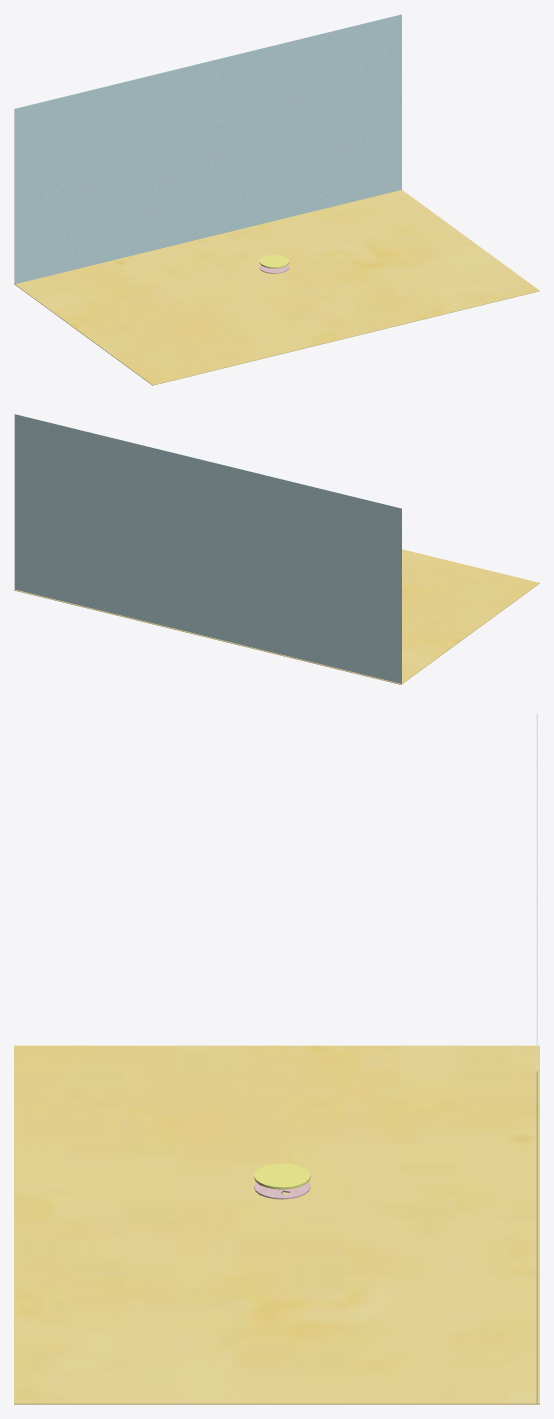
Rendered from Piso.obj.
3 renders of one model, top to bottom at view 1: azimuth 30°, elevation 25°; view 2: azimuth 150°, elevation 25°; view 3: azimuth 270°, elevation 25°, orthographic. The views are drawn at different scales.
Visible parts, largest first — view 1: pasted__pCube3group37, pCube3; view 2: pasted__pCube3group37, pCube3; view 3: pCube3, pasted__pCube3group37, pCylinder16.
Boxes of the visible parts, bbox=[...] form: pasted__pCube3group37: bbox=[14, 14, 401, 283]; pCube3: bbox=[14, 190, 539, 385]; pasted__pCube3group37: bbox=[14, 414, 401, 683]; pCube3: bbox=[14, 549, 539, 684]; pCube3: bbox=[14, 1045, 539, 1404]; pasted__pCube3group37: bbox=[536, 713, 537, 1403]; pCylinder16: bbox=[254, 1163, 310, 1189].
Bounding box in the file's own units: 35.35 × 15.34 × 21.94.
5 materials, 5 textured.
